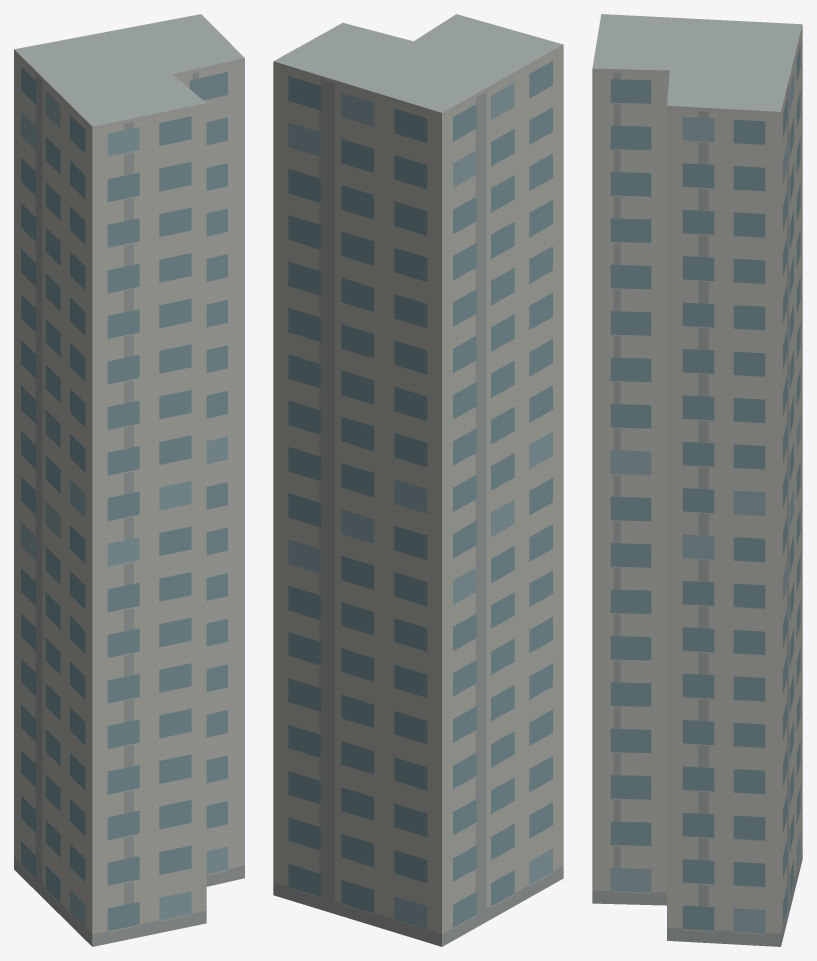
File: survey-upis-32575792.glb
3 renders of one model, left to right at view 1: azimuth 30°, elevation 25°; view 2: azimuth 150°, elevation 25°; view 3: azimuth 270°, elevation 25°, orthographic.
Visible parts, largest first — view 1: survey-upis-32575792.tmp; view 2: survey-upis-32575792.tmp; view 3: survey-upis-32575792.tmp.
Boxes of the visible parts, bbox=[...] form: survey-upis-32575792.tmp: bbox=[14, 14, 244, 946]; survey-upis-32575792.tmp: bbox=[273, 14, 563, 946]; survey-upis-32575792.tmp: bbox=[592, 14, 802, 946].
Size of the model in its own units: 13.81 by 54.9 by 12.54.
